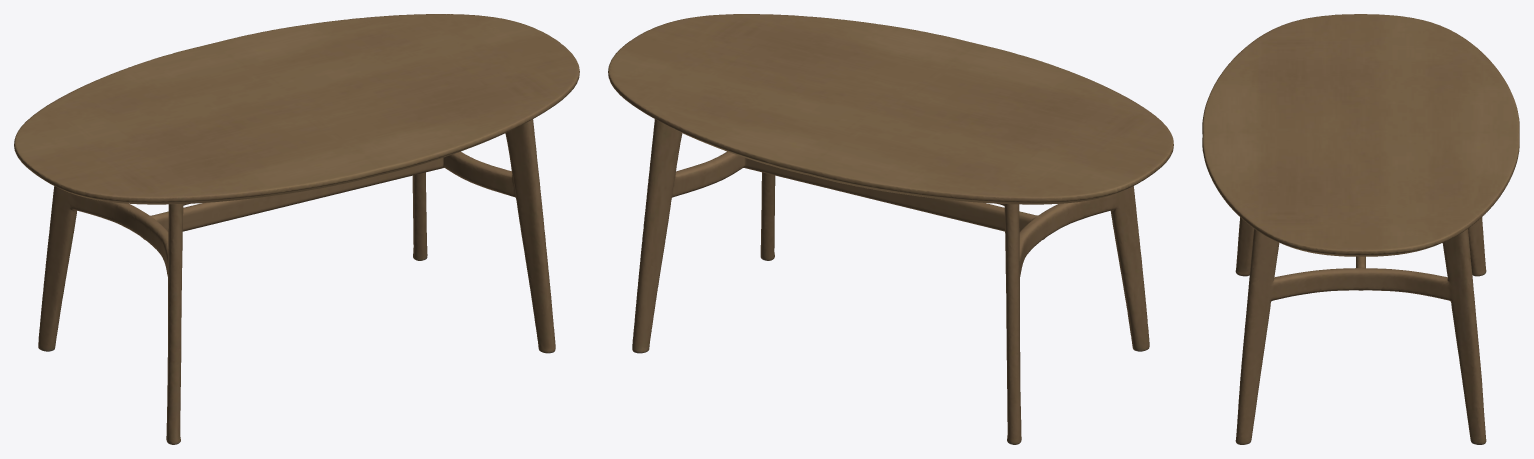
Rendered from table.glb.
3 renders of one model, left to right at view 1: azimuth 30°, elevation 25°; view 2: azimuth 150°, elevation 25°; view 3: azimuth 270°, elevation 25°, orthographic. The views are drawn at different scales.
Parts seen in each view (by area): view 1: world; view 2: world; view 3: world.
Boxes of the visible parts, bbox=[...] form: world: bbox=[14, 14, 579, 444]; world: bbox=[608, 14, 1173, 444]; world: bbox=[1202, 14, 1519, 444].
Size of the model in its own units: 1 by 0.4468 by 0.5676.
1 material, 1 textured.
